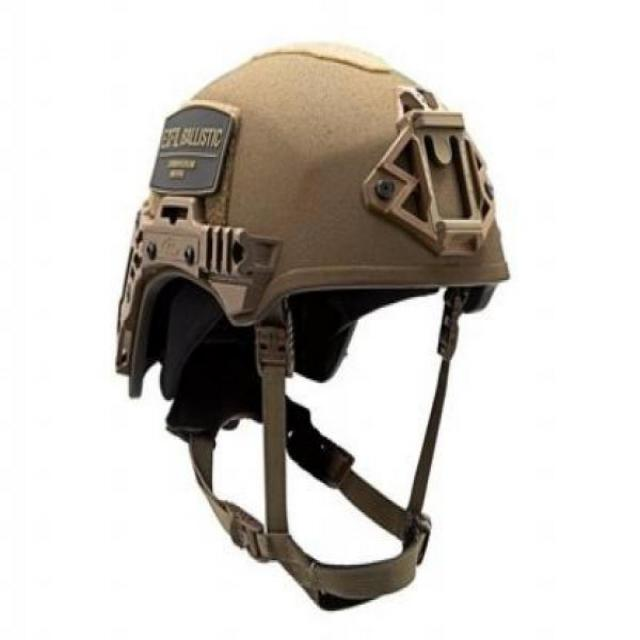Helmet: (114, 44, 492, 584)
